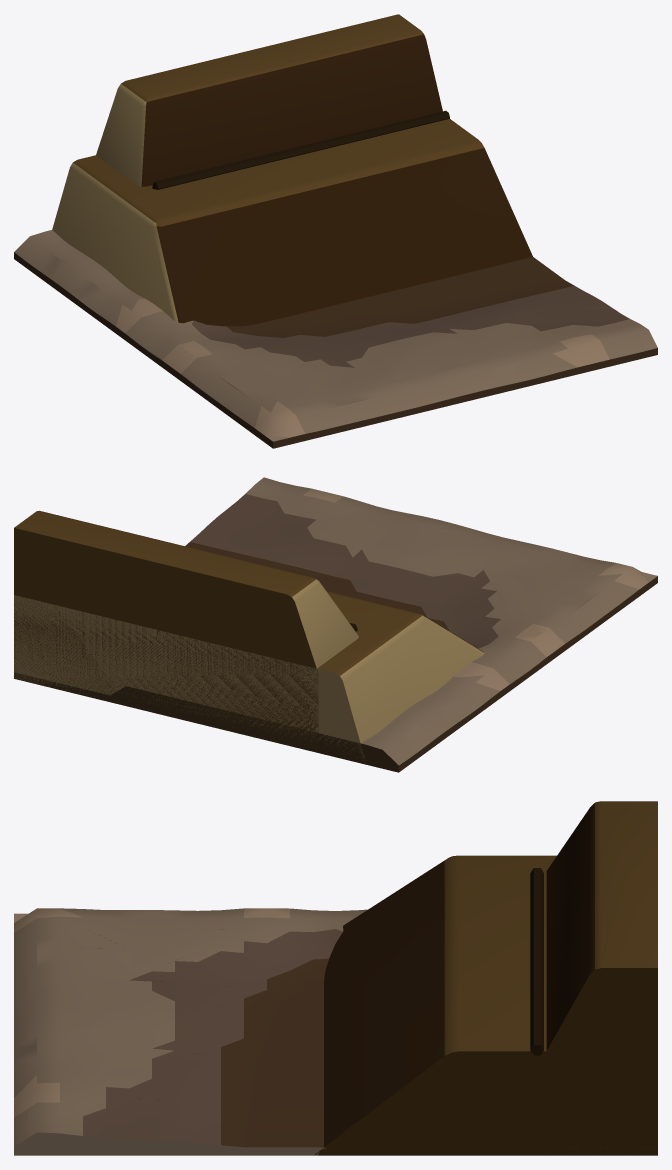
The picture shows the model from 3 angles, top to bottom: view 1: azimuth 30°, elevation 25°; view 2: azimuth 150°, elevation 25°; view 3: azimuth 270°, elevation 25°; orthographic projection. The views are drawn at different scales.
Visible parts, largest first — view 1: pyramid_191_tier0, pyramid_191_sand, pyramid_191_tier1, pyramid_191_course0; view 2: pyramid_191_sand, pyramid_191_tier1, pyramid_191_tier0; view 3: pyramid_191_sand, pyramid_191_tier0, pyramid_191_tier1, pyramid_191_course0.
Boxes of the visible parts, bbox=[...] form: pyramid_191_tier0: bbox=[52, 118, 532, 326]; pyramid_191_sand: bbox=[14, 230, 657, 448]; pyramid_191_tier1: bbox=[96, 14, 442, 186]; pyramid_191_course0: bbox=[152, 110, 449, 189]; pyramid_191_sand: bbox=[14, 477, 657, 772]; pyramid_191_tier1: bbox=[14, 510, 358, 750]; pyramid_191_tier0: bbox=[14, 591, 484, 760]; pyramid_191_sand: bbox=[14, 908, 624, 1155]; pyramid_191_tier0: bbox=[314, 855, 657, 1155]; pyramid_191_tier1: bbox=[543, 801, 657, 1095]; pyramid_191_course0: bbox=[530, 868, 543, 1055].
Bounding box in the file's own units: 24 × 9 × 28.
